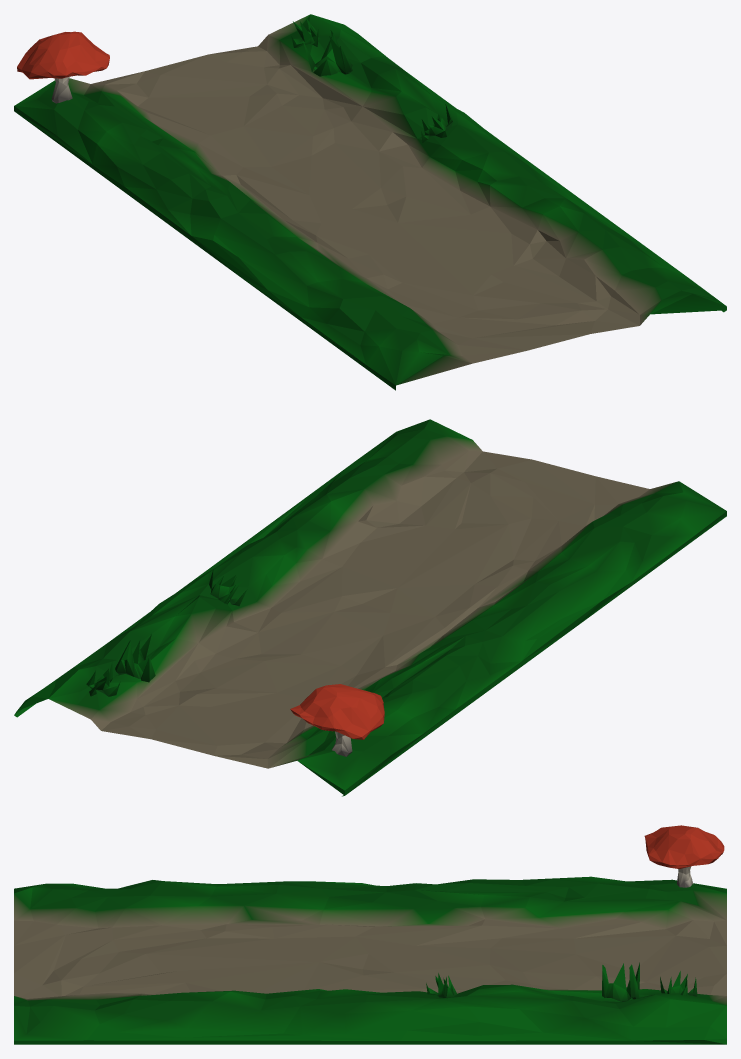
File: module1.fbx
The picture shows the model from 3 angles, top to bottom: view 1: azimuth 30°, elevation 25°; view 2: azimuth 150°, elevation 25°; view 3: azimuth 270°, elevation 25°; orthographic projection. The views are drawn at different scales.
Parts seen in each view (by area): view 1: module1; view 2: module1; view 3: module1.
Part boxes in pixels (bbox=[...]): module1: bbox=[14, 14, 726, 390]; module1: bbox=[14, 419, 726, 796]; module1: bbox=[14, 825, 726, 1044].
Size of the model in its own units: 5203 by 1246 by 10000.
